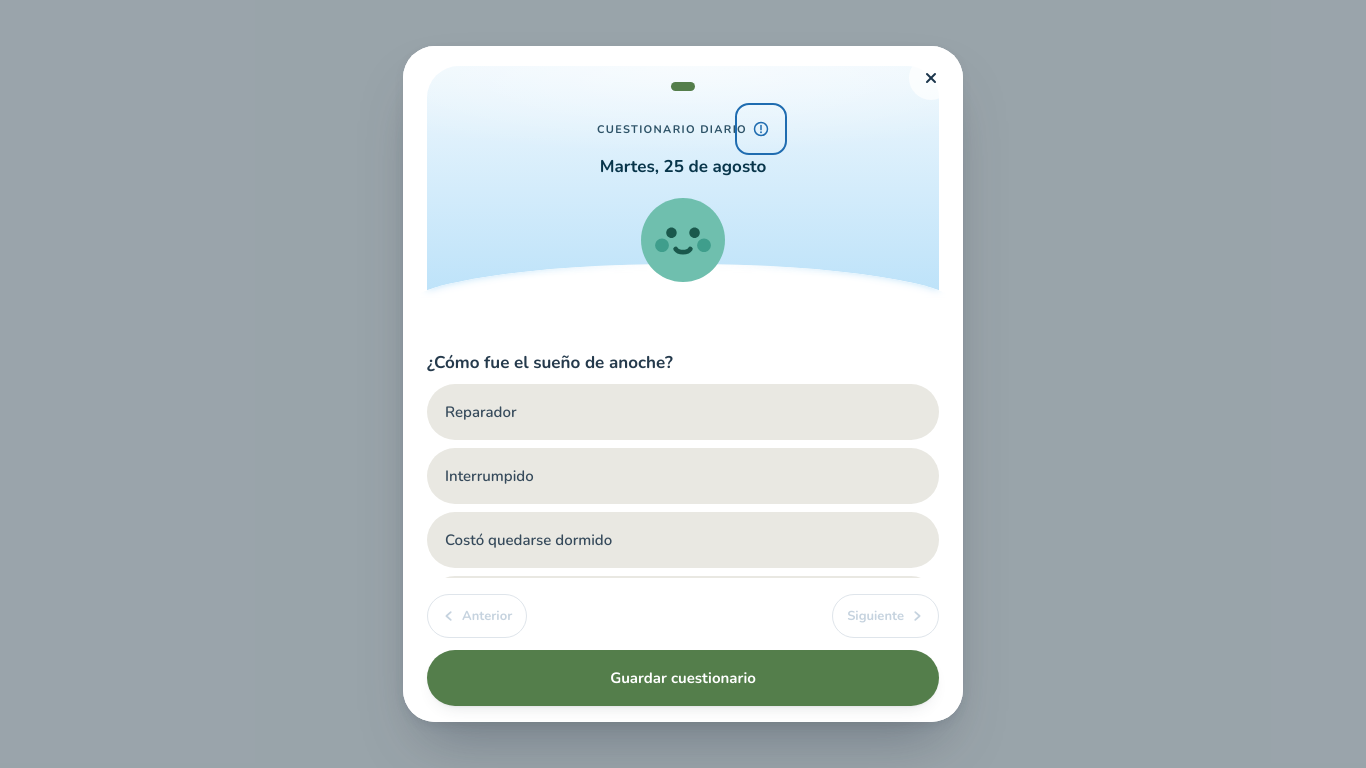
DialogoCuestionario › sin sugerencias pendientes guarda directo, sin paso de revisión
The width and height of the screenshot is (1366, 768).
Click the button with class "boton--principal" at (683, 678), box [427,650,939,706]
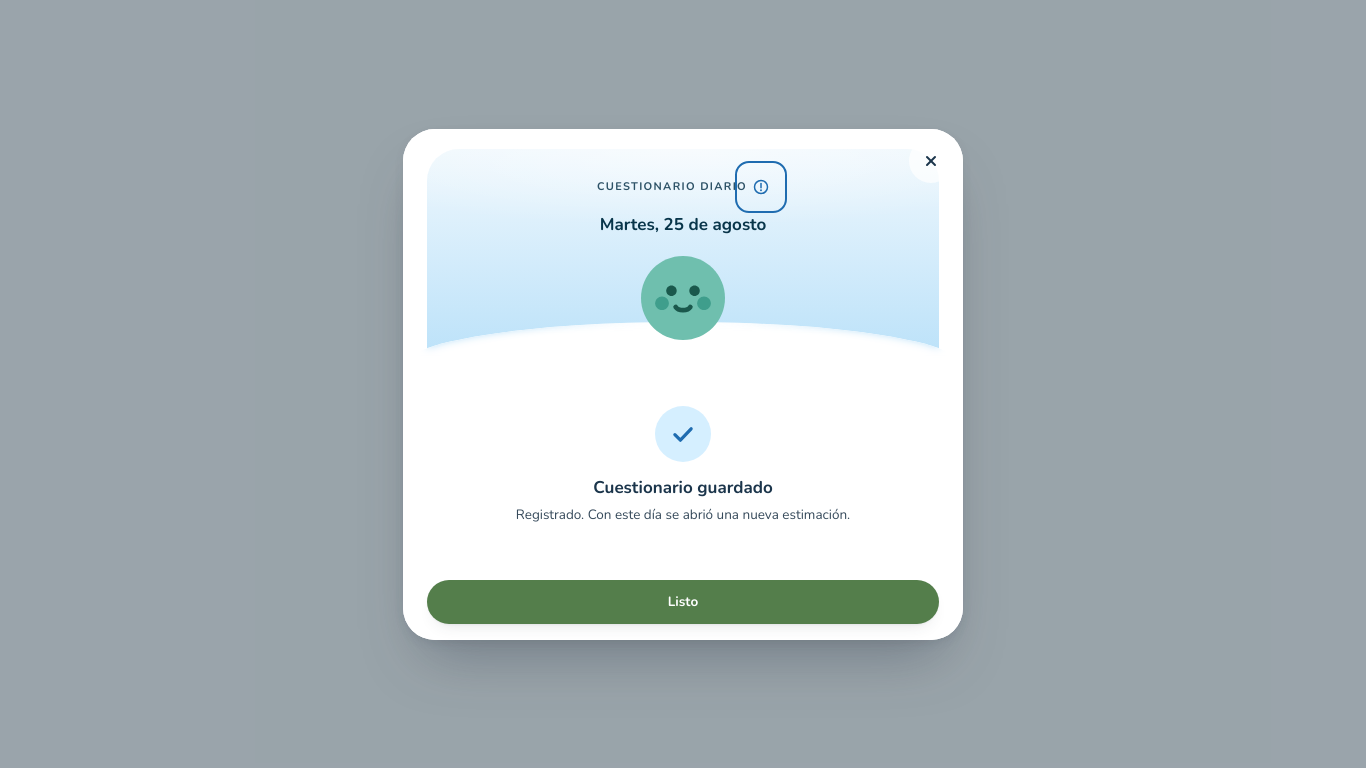
Expected: the text "Cuestionario guardado" is shown, [593,476,773,498]
